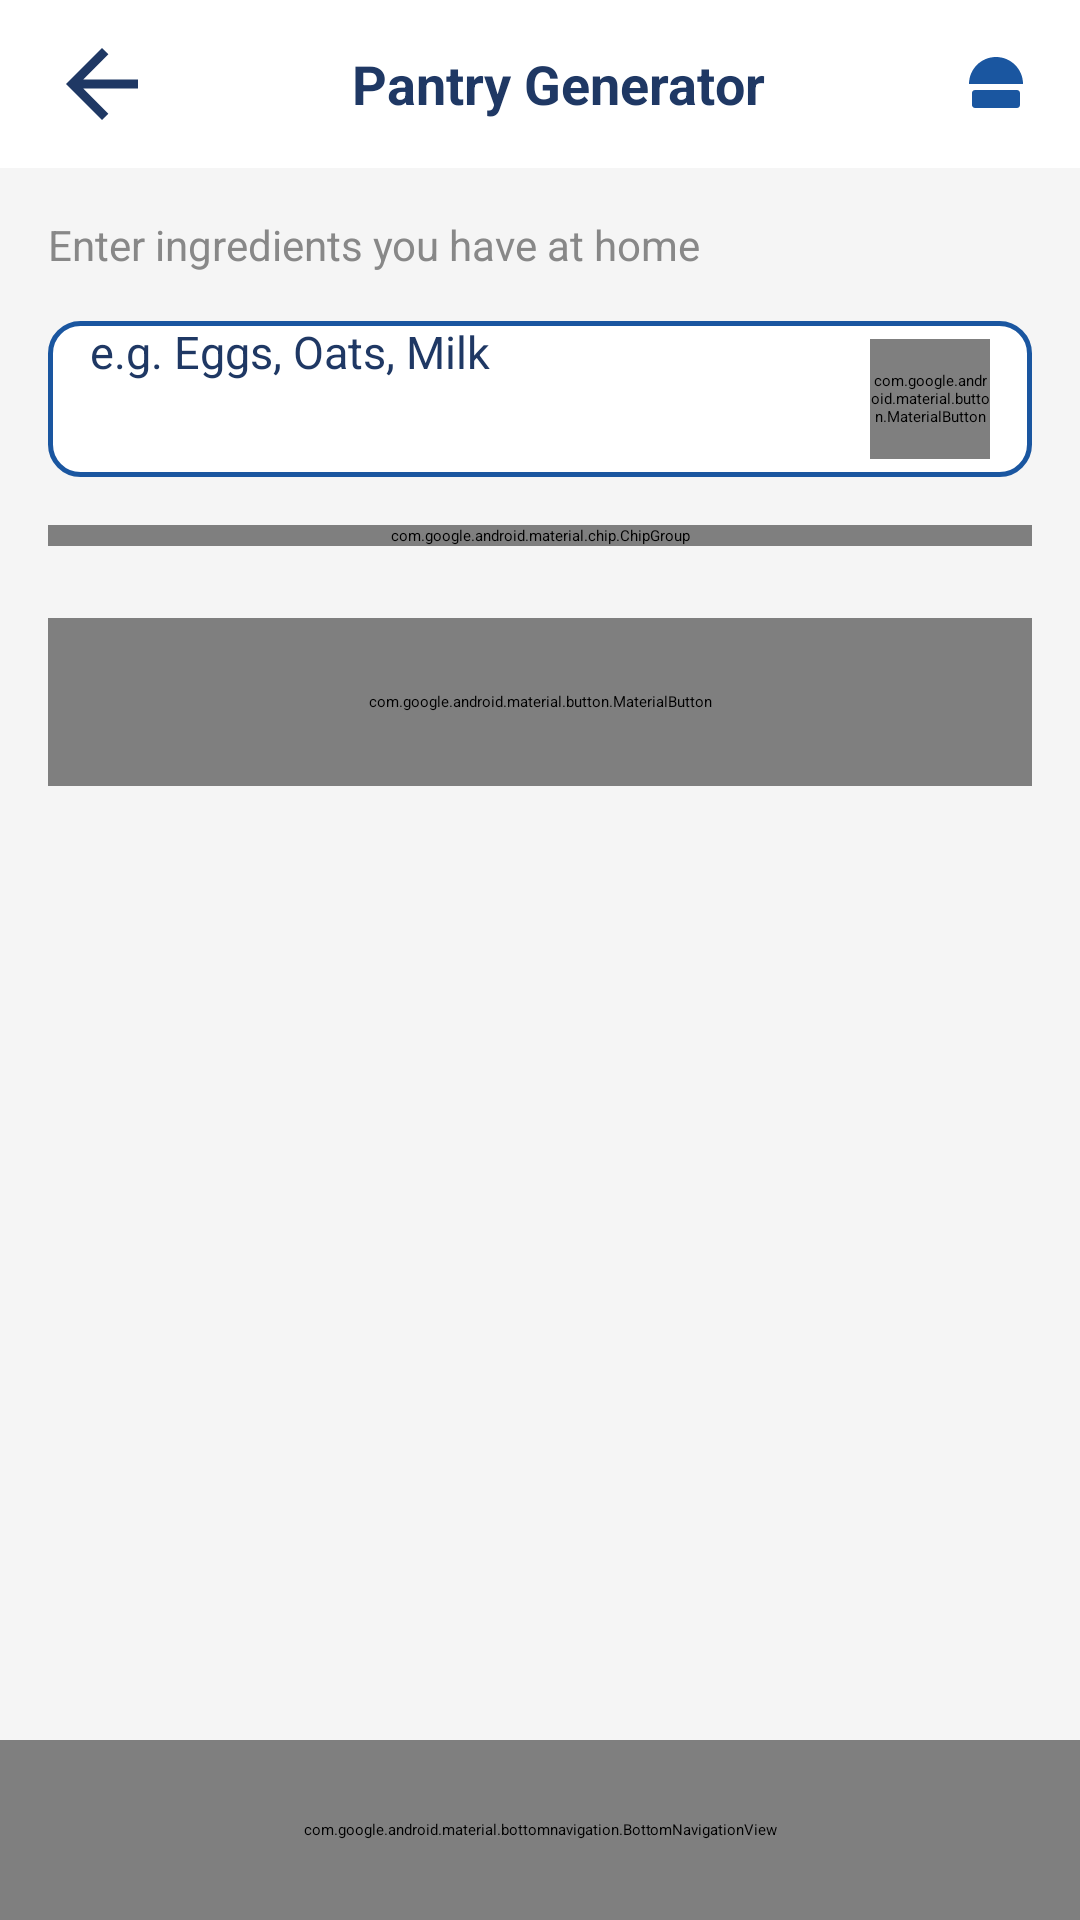

Named icons in this screenshot (1080*1920) and their bounding boxes, (x1, y1, x2, y2):
back arrow: (66, 48, 138, 120)
chef: (969, 57, 1023, 108)
